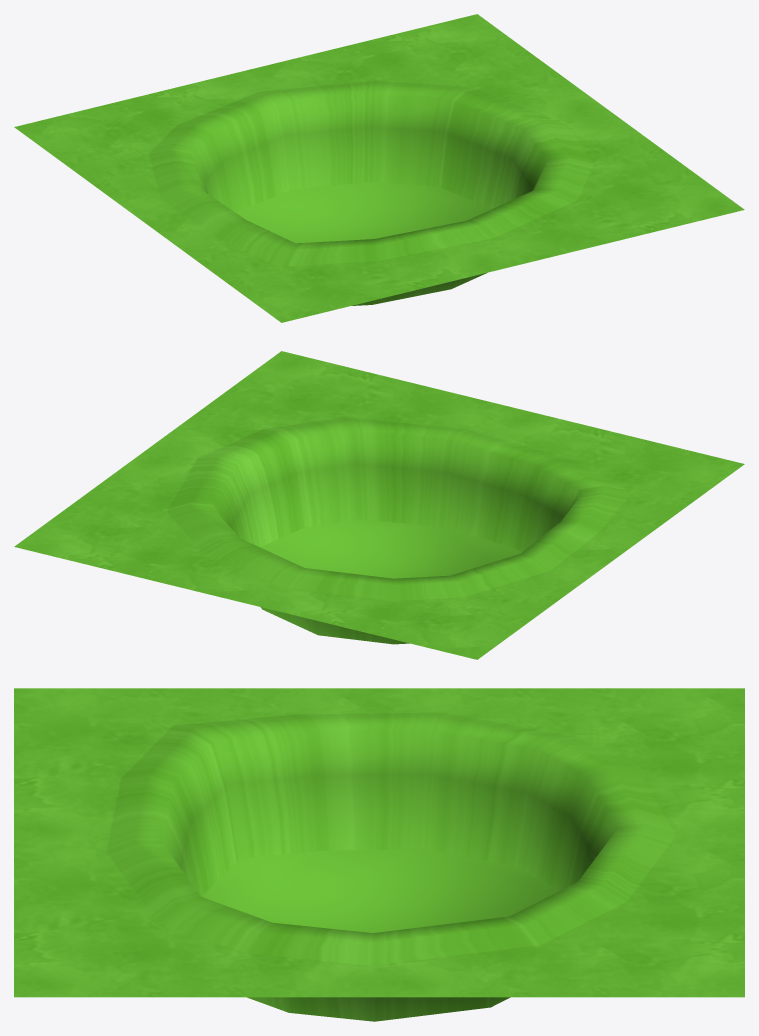
The model's file is grass-bighole.fbx.
3 views of the same model, one above another, from view 1: azimuth 30°, elevation 25°; view 2: azimuth 150°, elevation 25°; view 3: azimuth 270°, elevation 25° (orthographic). The views are drawn at different scales.
Parts seen in each view (by area): view 1: grass01.001; view 2: grass01.001; view 3: grass01.001.
Part boxes in pixels (x1,y1,x2,y2): grass01.001: [14, 14, 744, 322]; grass01.001: [14, 351, 744, 659]; grass01.001: [14, 688, 744, 1021].
Size of the model in its own units: 200 by 32.42 by 200.
